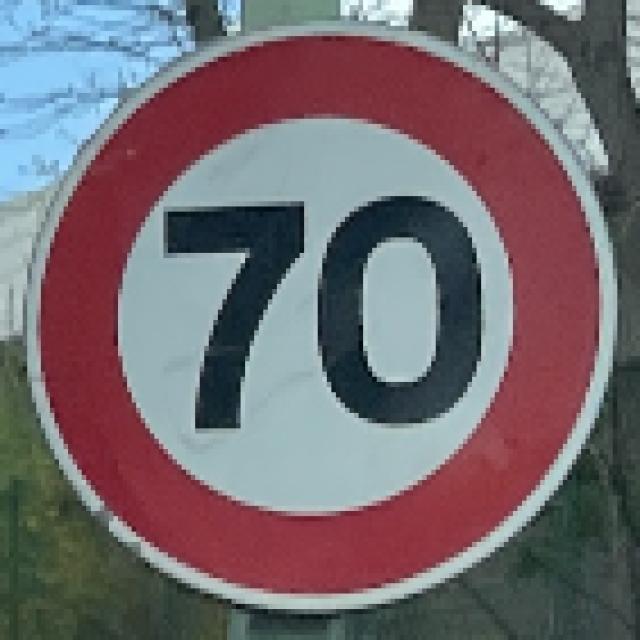speed_70: (0, 0, 635, 635)
